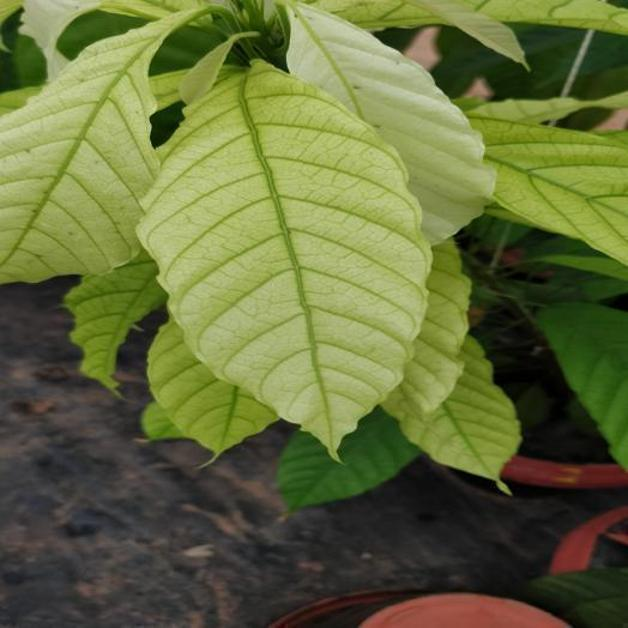Iron: (138, 61, 430, 457), (0, 12, 192, 281)
